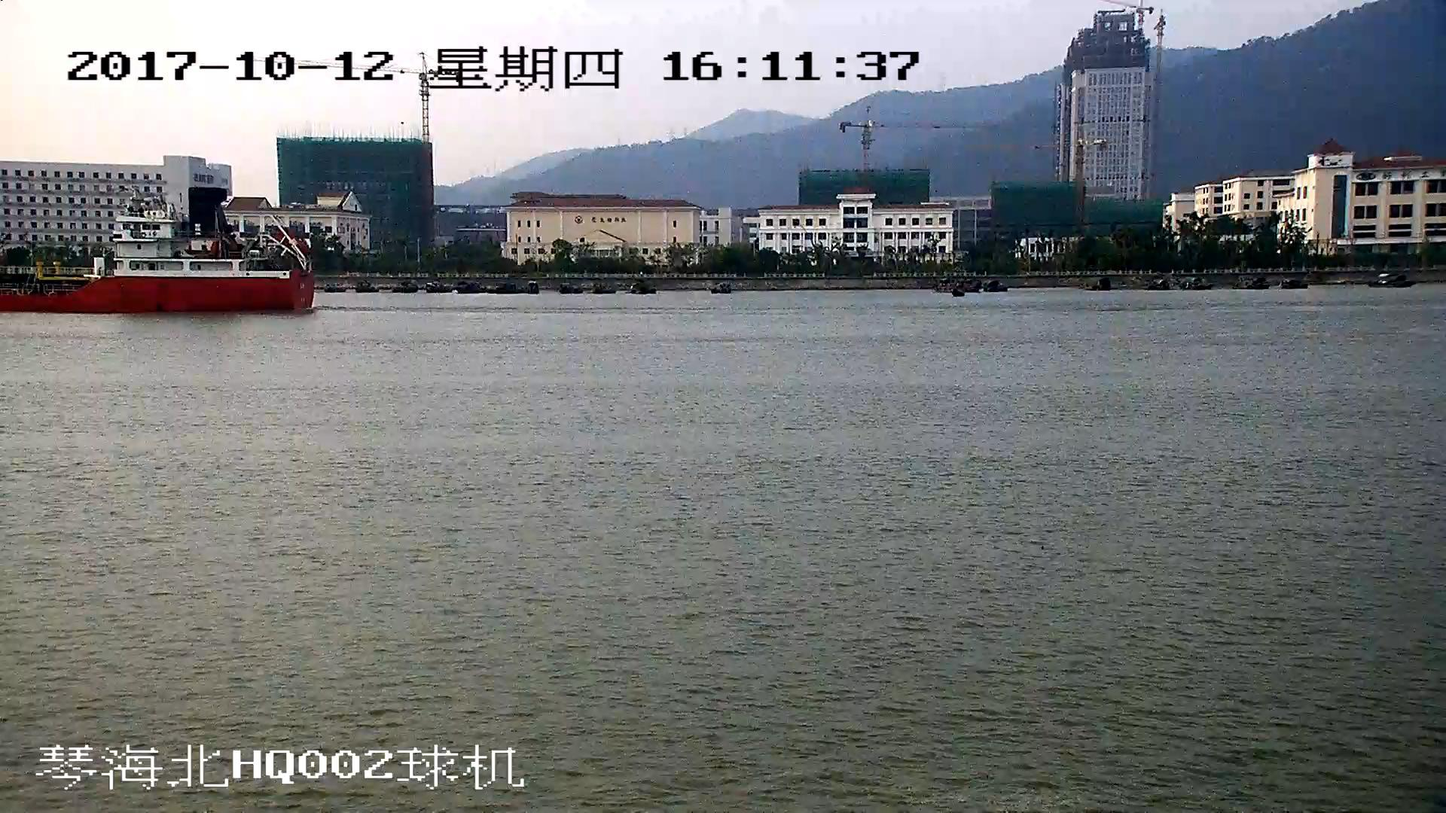general cargo ship: (0, 191, 309, 313)
